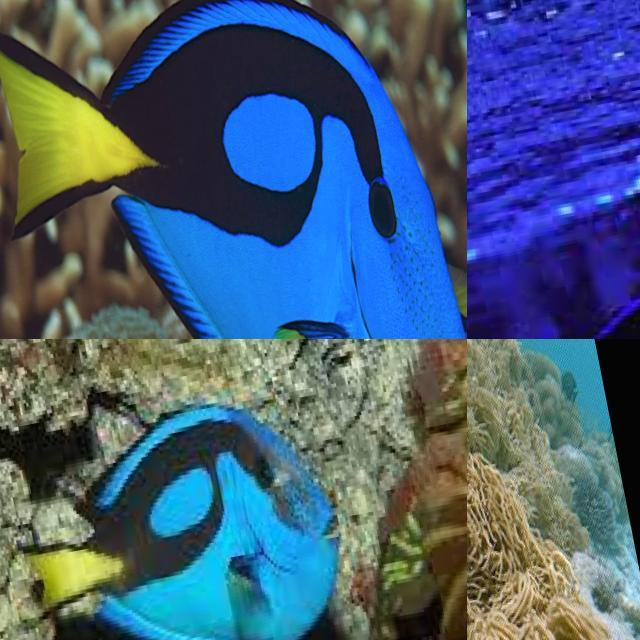BlueTang: (0, 0, 467, 339), (38, 408, 344, 633)
